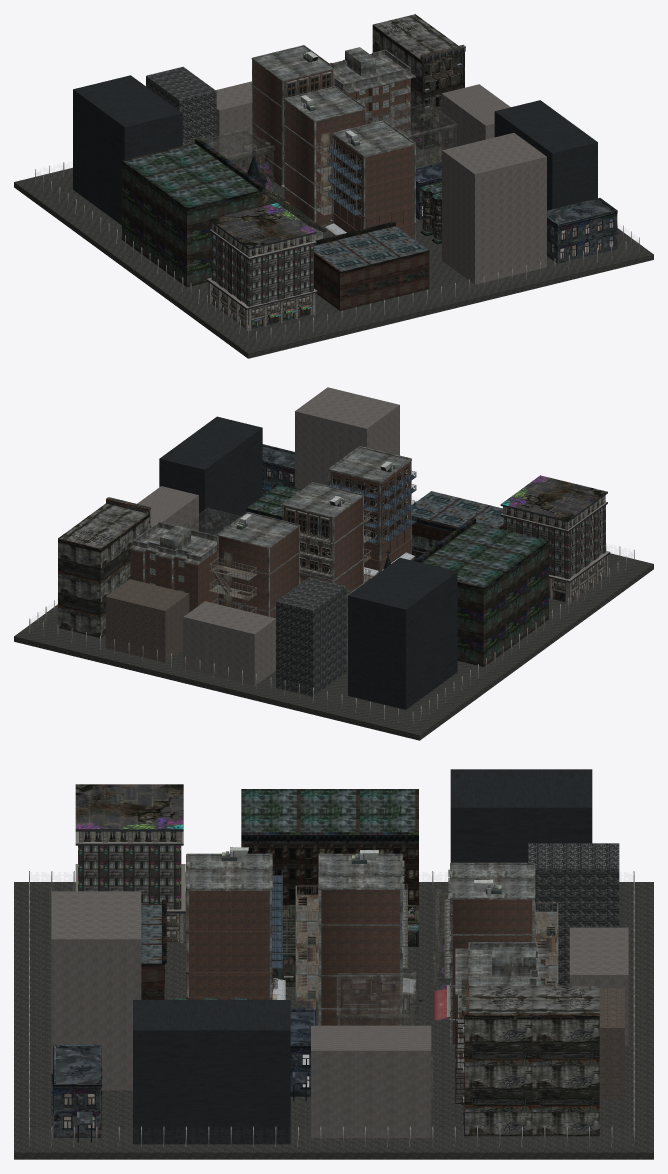
File: sidestreets-transformed.glb
3 renders of one model, top to bottom at view 1: azimuth 30°, elevation 25°; view 2: azimuth 150°, elevation 25°; view 3: azimuth 270°, elevation 25°, orthographic. The views are drawn at different scales.
Visible parts, largest first — view 1: Base, Building.013, Brownstone_FlatFacade_6_Brownstone_Firstfloor_1_0, Object_4, Building.007, aircondition_Mat_0, Brownstone_FlatFacade_6_B_Brownstone_Firstfloor_1_0, 1_9_2_Mat_0, Brownstone_FlatFacade_8_Brownstone_Firstfloor_1_0, Building.011, 1_Mat.1_0, 2_2_2_2_Mat_0 (+11 smaller); view 2: Base, Building.007, Brownstone_FlatFacade_6_Brownstone_Firstfloor_1_0, Object_4, Brownstone_FlatFacade_8_Brownstone_Firstfloor_1_0, Building.011, Building.008, 1_Mat.1_0, Building.013, 1_9_2_Mat_0, aircondition_Mat_0, Building.009 (+9 smaller); view 3: Base, Building.011, Brownstone_FlatFacade_8_Brownstone_Firstfloor_1_0, 1_9_2_Mat_0, Building.013, Brownstone_FlatFacade_6_Brownstone_Firstfloor_1_0, aircondition_Mat_0, Building.003, Object_4, Building.007, 1_Mat.1_0, Building.008 (+11 smaller).
Part boxes in pixels (box(x1,y1,x2,y2)): Base: box(14, 144, 653, 358); Building.013: box(442, 133, 546, 284); Brownstone_FlatFacade_6_Brownstone_Firstfloor_1_0: box(122, 138, 263, 286); Object_4: box(206, 203, 317, 330); Building.007: box(73, 75, 182, 225); aircondition_Mat_0: box(325, 120, 416, 239); Brownstone_FlatFacade_6_B_Brownstone_Firstfloor_1_0: box(314, 221, 429, 310); 1_9_2_Mat_0: box(281, 86, 366, 226); Brownstone_FlatFacade_8_Brownstone_Firstfloor_1_0: box(372, 14, 465, 149); Building.011: box(494, 100, 597, 210); 1_Mat.1_0: box(251, 45, 334, 188); 2_2_2_2_Mat_0: box(329, 47, 415, 138); Base: box(14, 553, 653, 740); Building.007: box(348, 557, 457, 709); Brownstone_FlatFacade_6_Brownstone_Firstfloor_1_0: box(413, 518, 548, 666); Object_4: box(500, 475, 610, 603); Brownstone_FlatFacade_8_Brownstone_Firstfloor_1_0: box(58, 497, 151, 637); Building.011: box(159, 416, 262, 535); Building.008: box(276, 577, 346, 696); 1_Mat.1_0: box(209, 512, 300, 618); Building.013: box(295, 387, 399, 489); 1_9_2_Mat_0: box(282, 482, 371, 614); aircondition_Mat_0: box(327, 446, 416, 583); Building.009: box(183, 601, 275, 685); Base: box(14, 882, 653, 1159); Building.011: box(133, 1000, 290, 1144); Brownstone_FlatFacade_8_Brownstone_Firstfloor_1_0: box(455, 979, 599, 1136); 1_9_2_Mat_0: box(295, 850, 422, 1025); Building.013: box(51, 891, 141, 1090); Brownstone_FlatFacade_6_Brownstone_Firstfloor_1_0: box(241, 789, 418, 946); aircondition_Mat_0: box(186, 847, 285, 999); Building.003: box(311, 1025, 431, 1137); Object_4: box(75, 784, 185, 942); Building.007: box(450, 769, 592, 862); 1_Mat.1_0: box(433, 862, 558, 1046); Building.008: box(528, 843, 619, 985).
Size of the model in its own units: 54.27 by 15.47 by 54.27.
65 materials, 63 textured.
